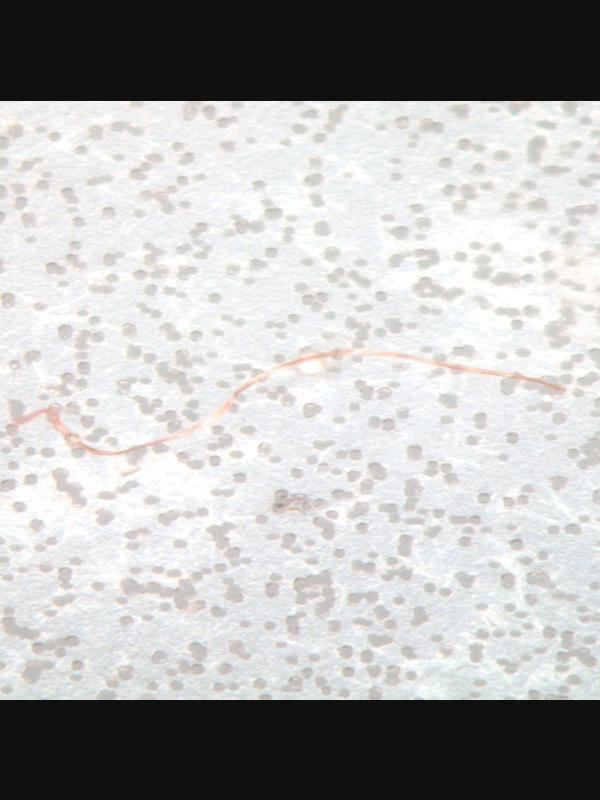microplastic: (0, 100, 600, 699), (4, 346, 566, 456)
